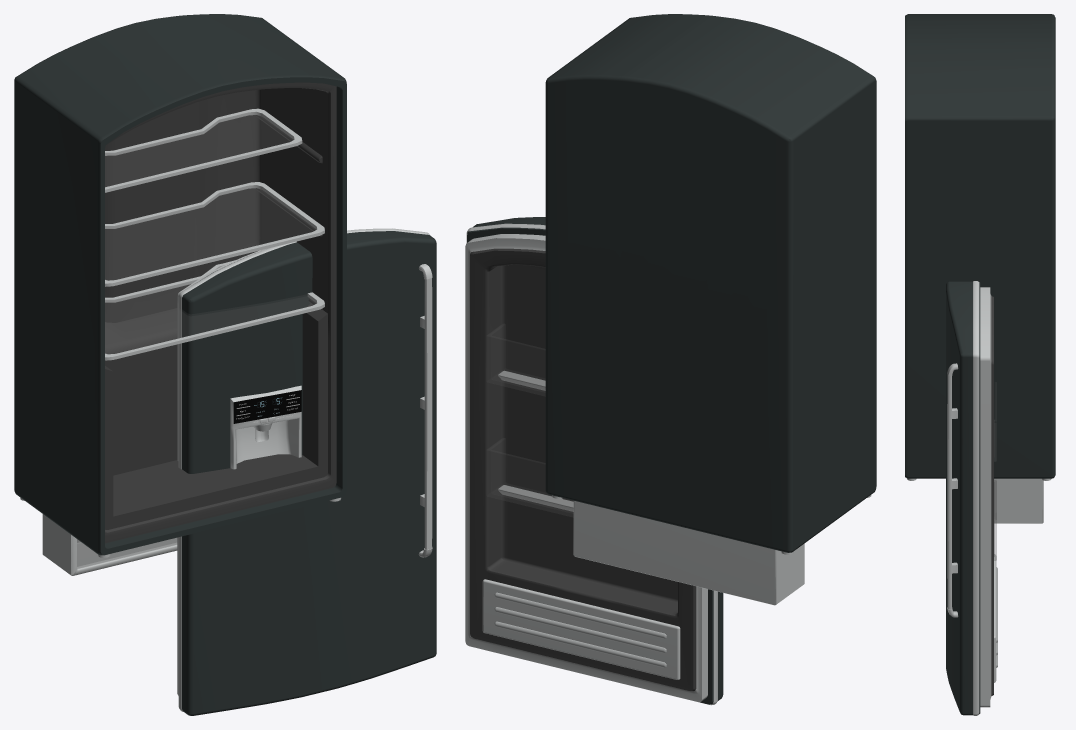
File: Fridge_20.obj
The picture shows the model from 3 angles, left to right: view 1: azimuth 30°, elevation 25°; view 2: azimuth 150°, elevation 25°; view 3: azimuth 270°, elevation 25°; orthographic projection. The views are drawn at different scales.
Parts seen in each view (by area): view 1: FridgeBodyMesh_0, Mesh_1, fridge_drawer1_28_2, fridge_drawer2_28_3; view 2: FridgeBodyMesh_0, Mesh_1, fridge_drawer2_28_3, fridge_drawer1_28_2; view 3: FridgeBodyMesh_0, Mesh_1, fridge_drawer2_28_3, fridge_drawer1_28_2.
Part boxes in pixels (x1,y1,x2,y2): FridgeBodyMesh_0: [14, 14, 346, 557]; Mesh_1: [177, 228, 436, 715]; fridge_drawer1_28_2: [42, 514, 177, 575]; fridge_drawer2_28_3: [71, 535, 177, 575]; FridgeBodyMesh_0: [545, 14, 876, 554]; Mesh_1: [465, 217, 723, 705]; fridge_drawer2_28_3: [573, 501, 804, 605]; fridge_drawer1_28_2: [573, 501, 804, 601]; FridgeBodyMesh_0: [905, 14, 1055, 480]; Mesh_1: [946, 281, 997, 715]; fridge_drawer2_28_3: [994, 478, 1043, 523]; fridge_drawer1_28_2: [994, 480, 1043, 523].
Size of the model in its own units: 1.77 by 3.02 by 0.7492.
